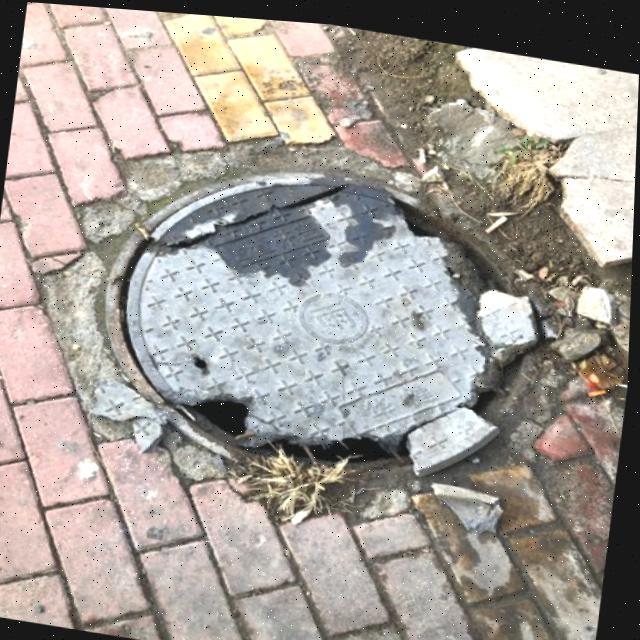manhole: (67, 126, 579, 517)
